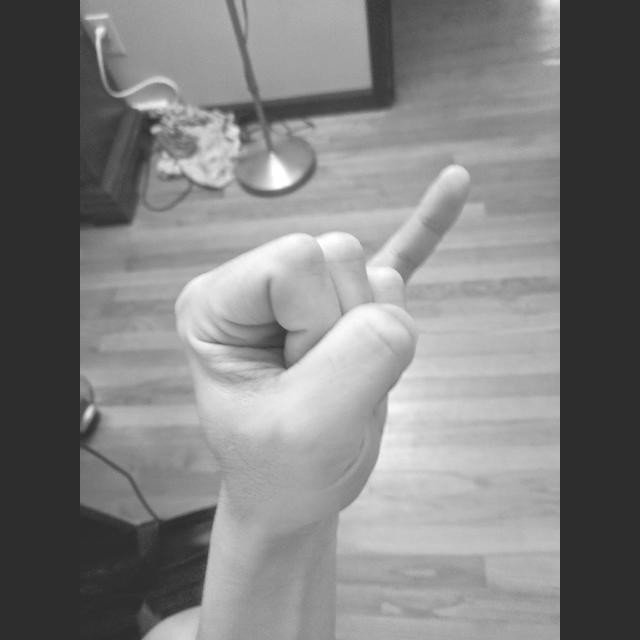I: (168, 160, 478, 528)
